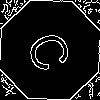C: (25, 25, 81, 76)
